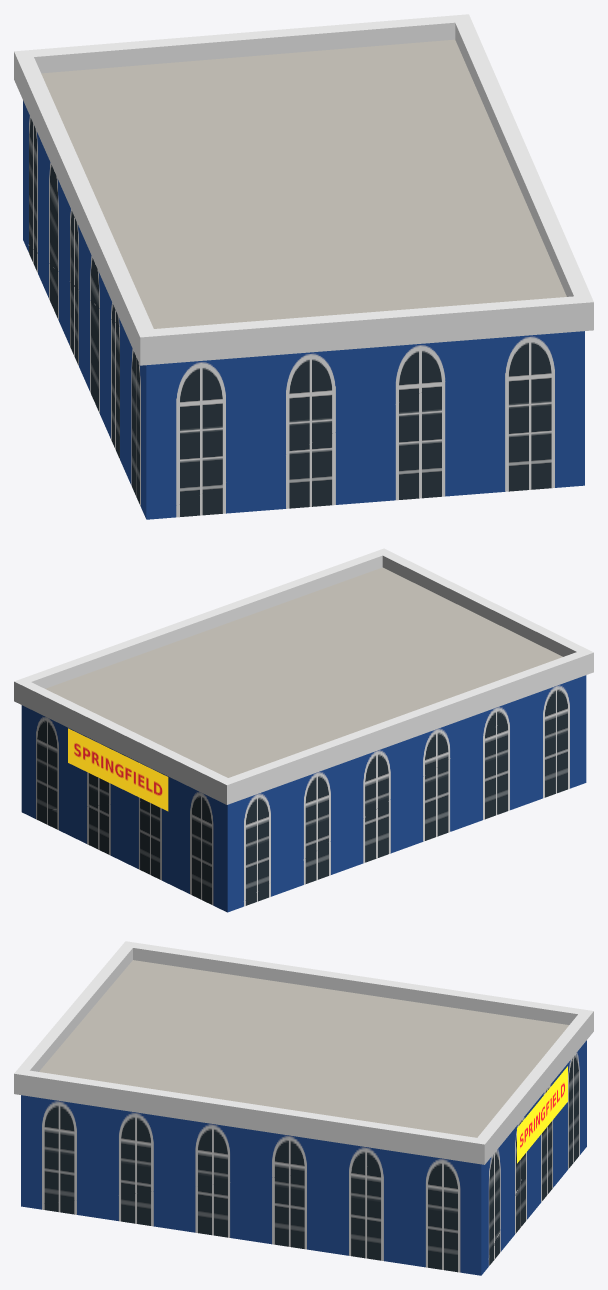
File: springfield.glb
3 views of the same model, one above another, from view 1: azimuth 30°, elevation 25°; view 2: azimuth 150°, elevation 25°; view 3: azimuth 270°, elevation 25° (orthographic). The views are drawn at different scales.
Visible parts, largest first — view 1: springfield_lod0; view 2: springfield_lod0; view 3: springfield_lod0.
Boxes of the visible parts, left/top/right/bottom form: springfield_lod0: left=14, top=14, right=593, bottom=519; springfield_lod0: left=14, top=548, right=593, bottom=912; springfield_lod0: left=14, top=941, right=593, bottom=1275.
Size of what is drawn, in the model's own units: 21.44 by 6.6 by 25.84.
4 materials, 2 textured.
